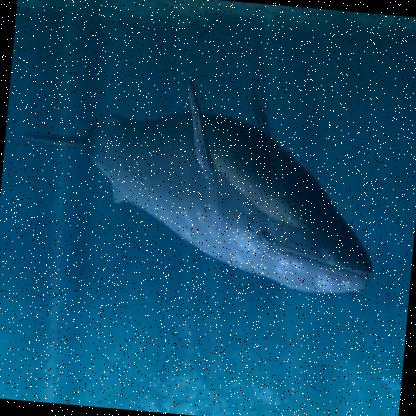blue_whale: (5, 10, 415, 378)
